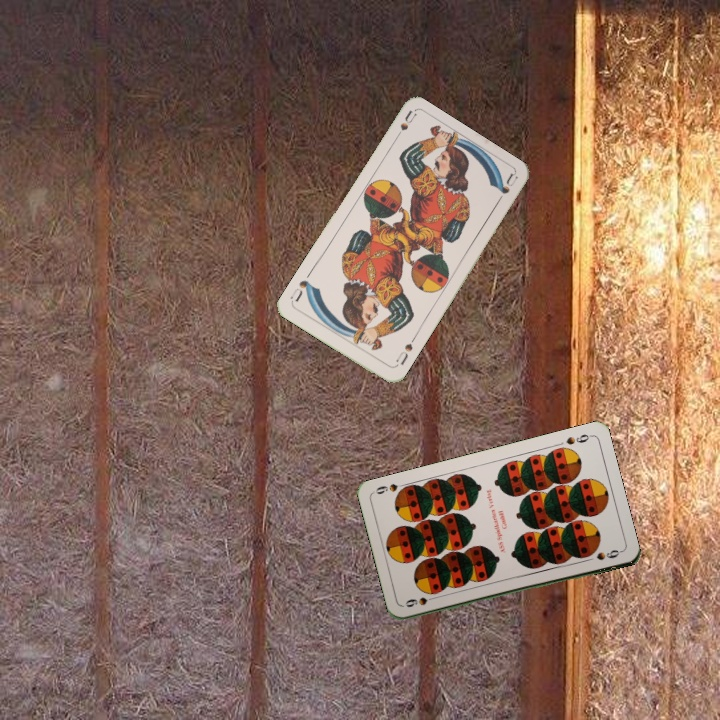S9: (401, 592, 441, 610), (562, 430, 594, 447)
SU: (389, 108, 418, 145), (391, 333, 418, 370)
